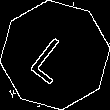L_NE: (27, 26, 83, 84)
